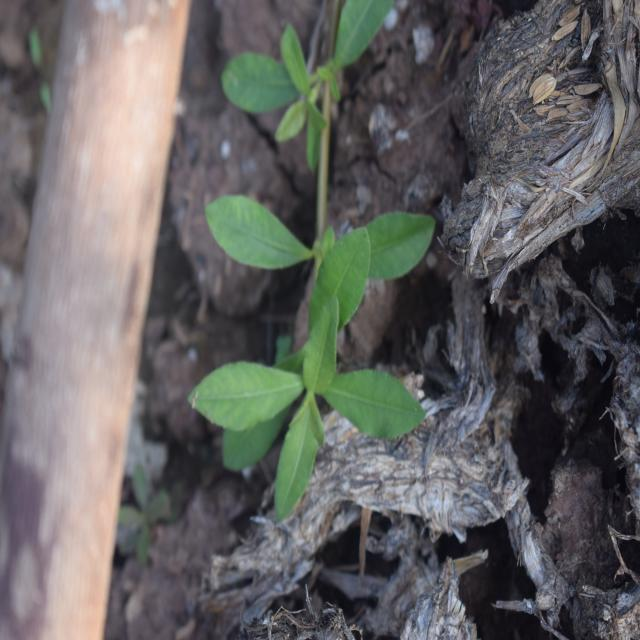Alligatorweed: (188, 12, 414, 501)
